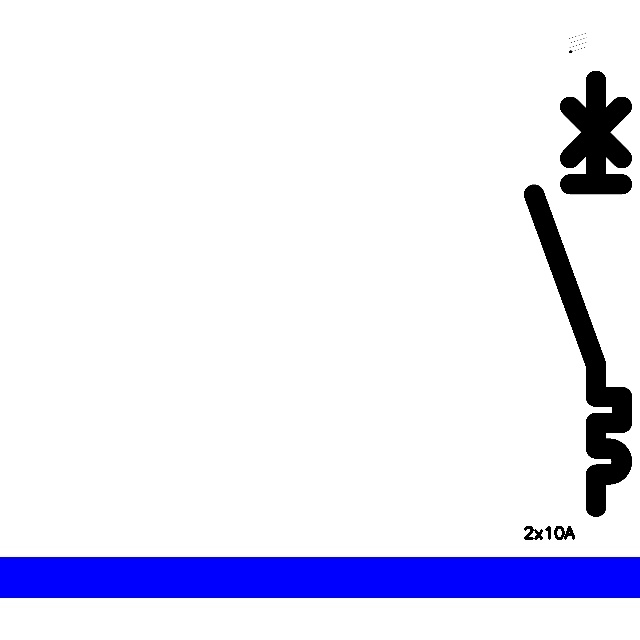interruptor_termomagnetico: (523, 69, 633, 517)
